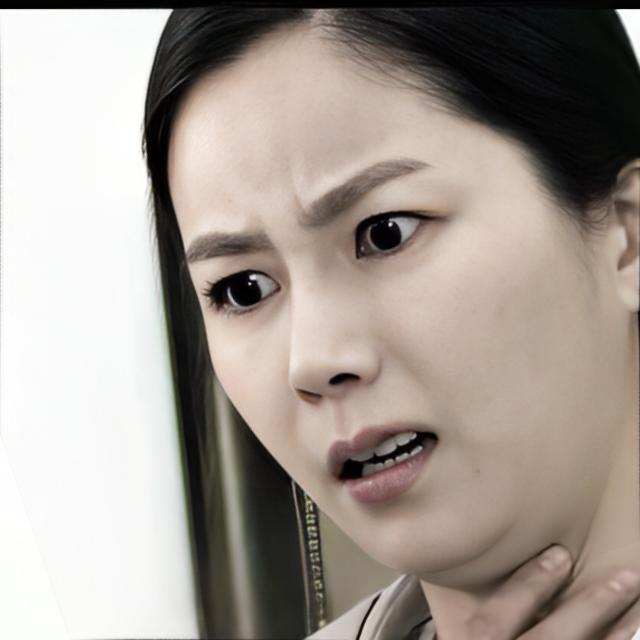fear: (167, 7, 592, 580)
